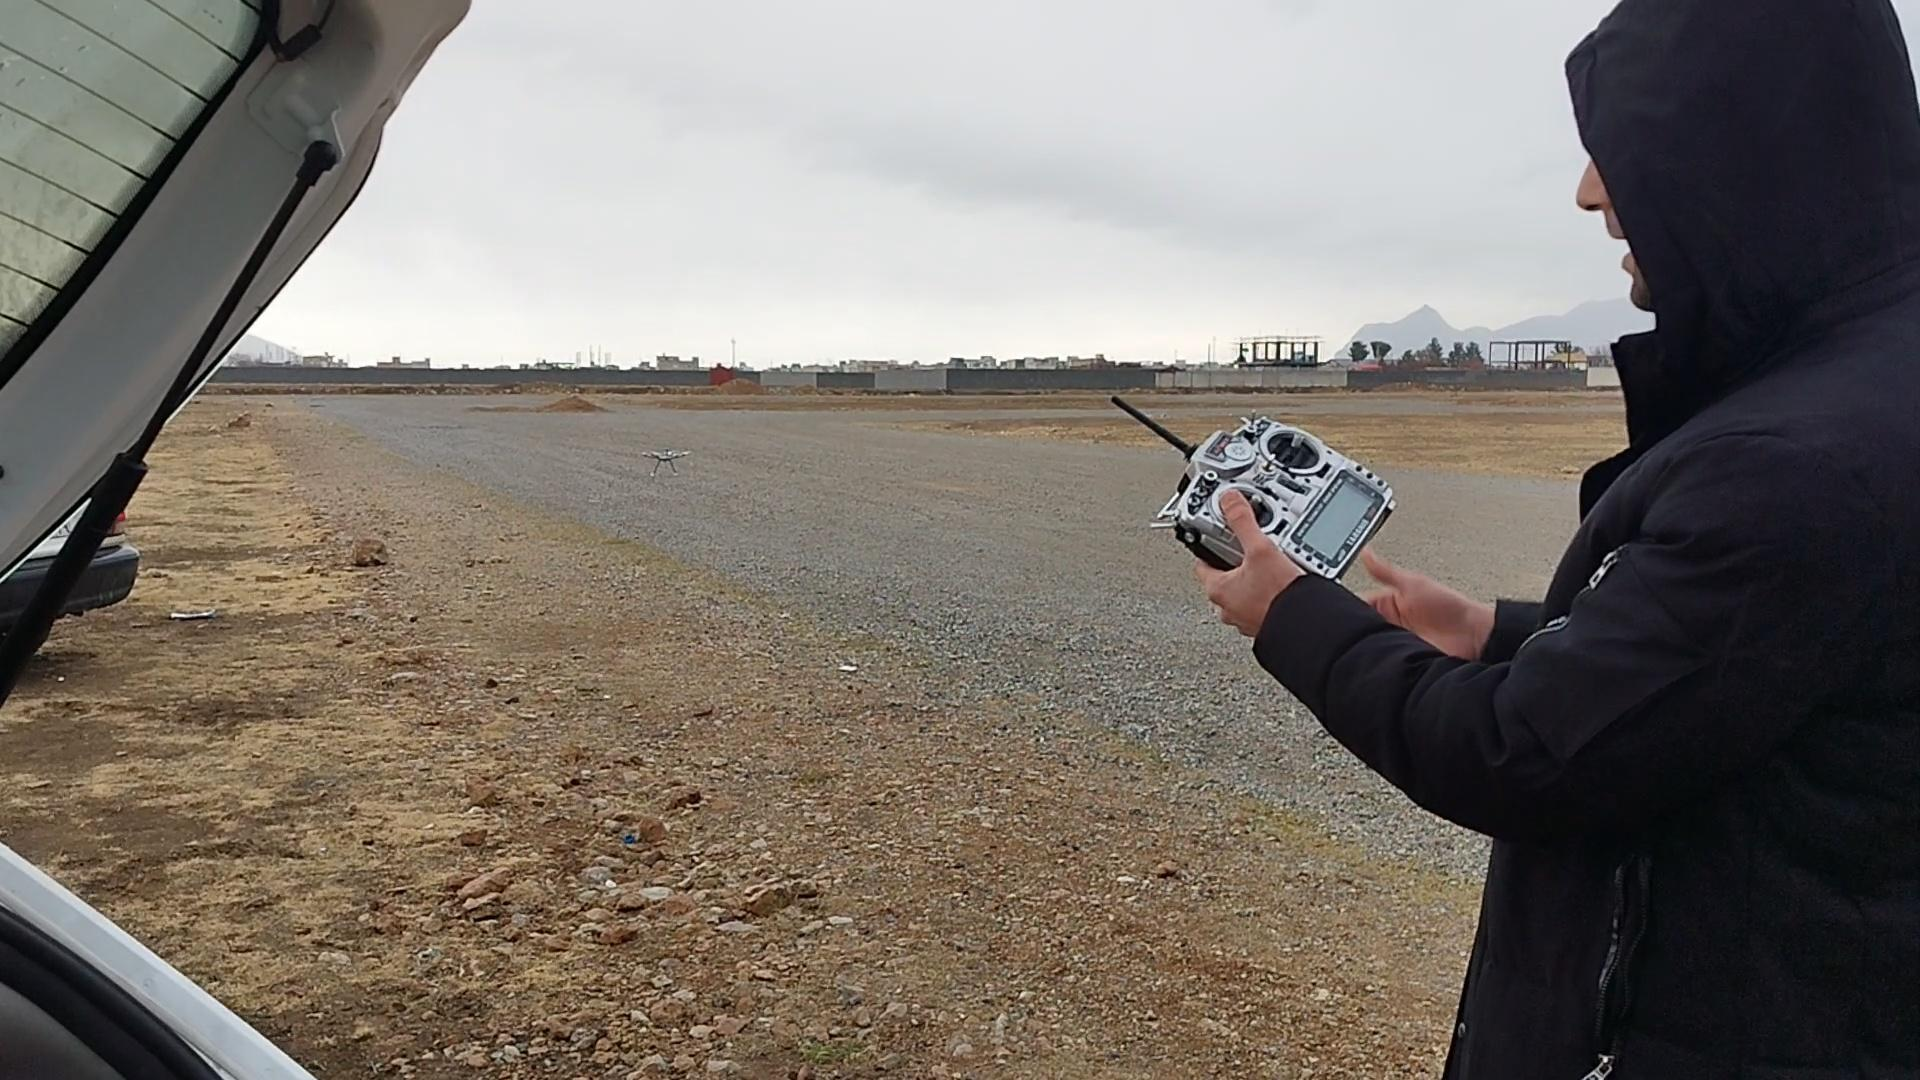drone: (636, 440, 694, 479)
